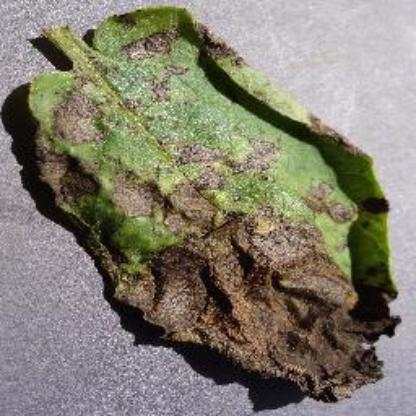Early-Blight: (21, 3, 401, 403)
